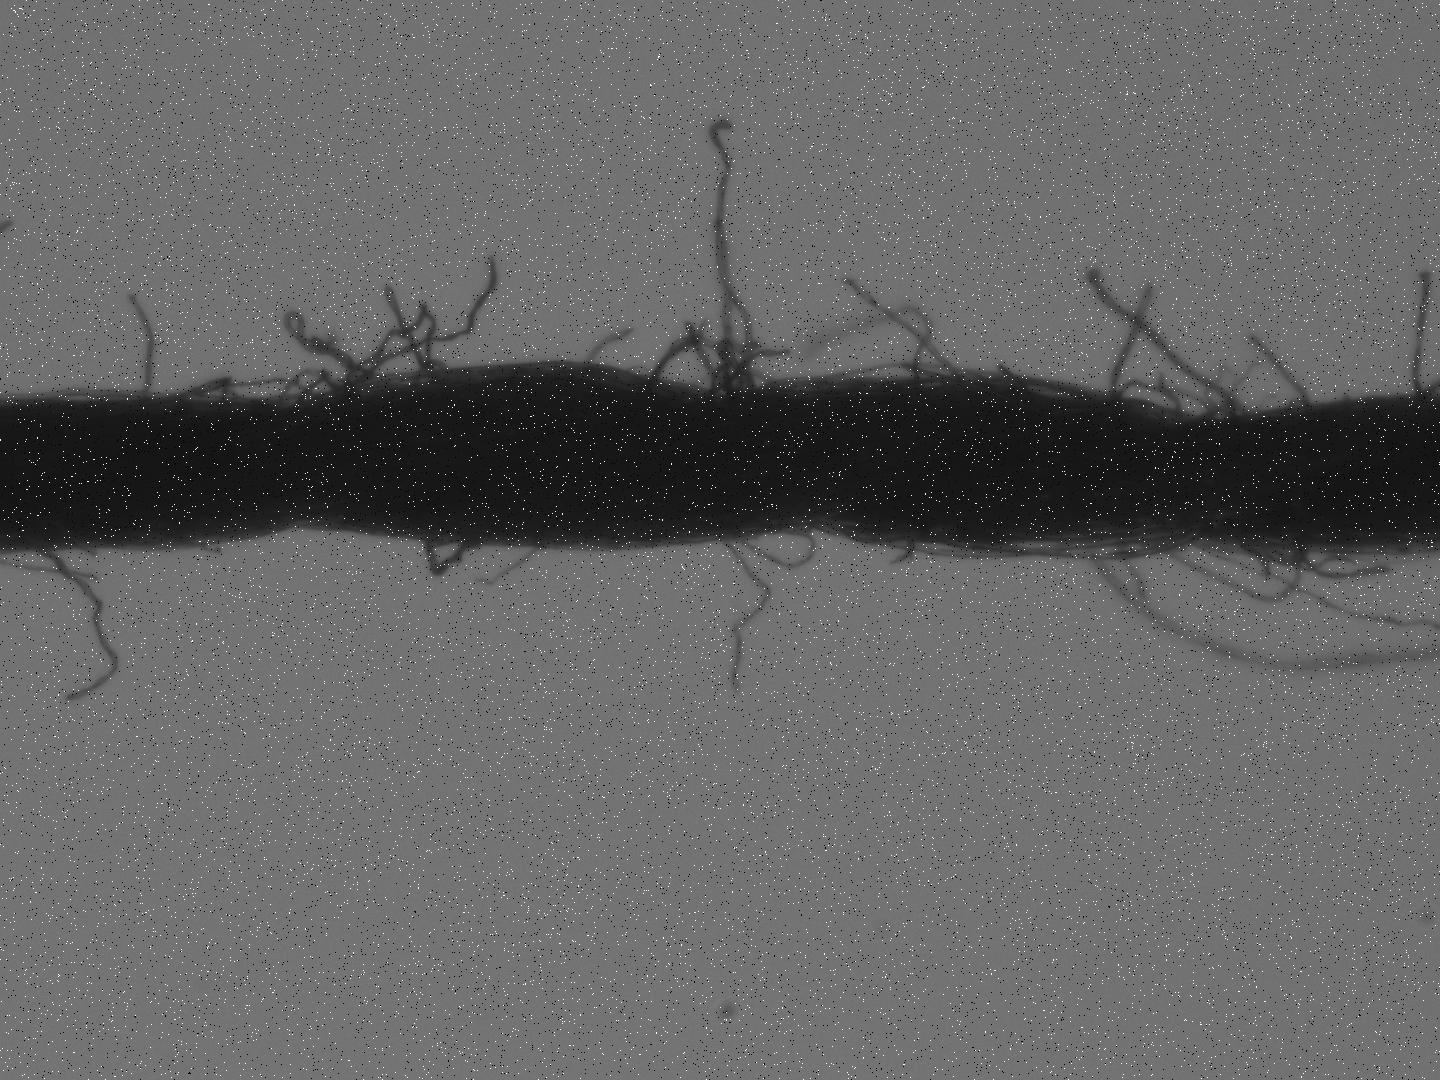loop_fiber: (1162, 537, 1304, 604), (350, 302, 442, 391), (645, 335, 776, 396), (736, 531, 816, 571), (416, 531, 480, 576), (277, 366, 347, 400)
protruding_fiber: (356, 253, 495, 381), (31, 548, 127, 707), (714, 529, 778, 694), (1106, 282, 1154, 398), (1404, 264, 1431, 394), (128, 293, 155, 394), (584, 327, 634, 371)
